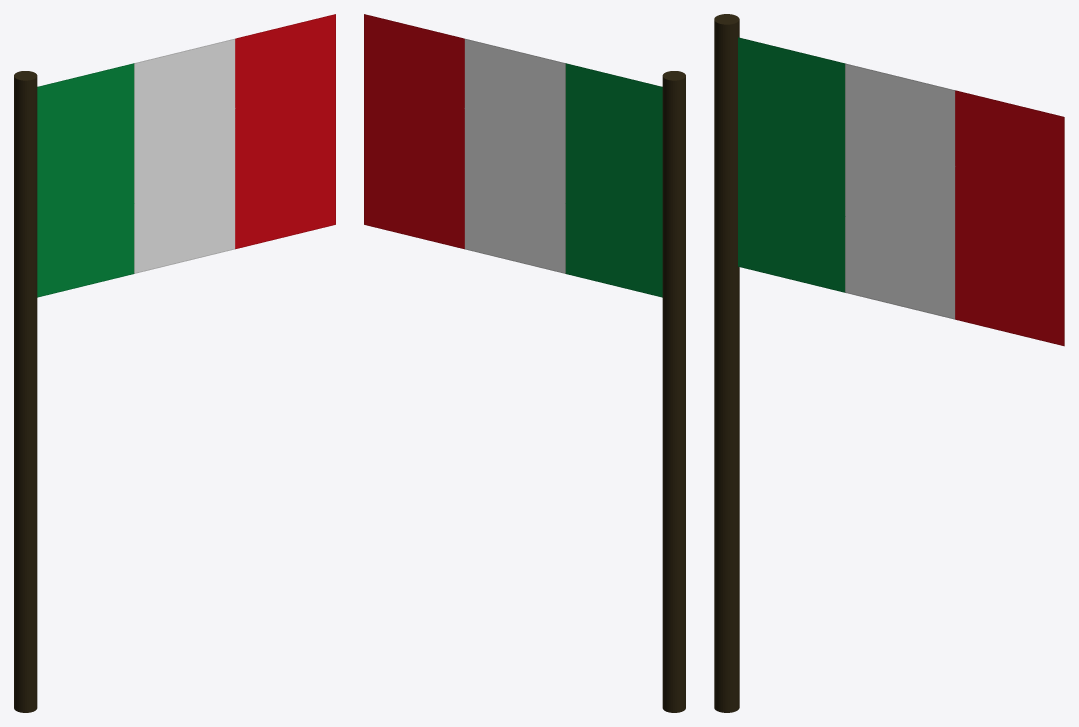
Rendered from Italy.glb.
3 renders of one model, left to right at view 1: azimuth 30°, elevation 25°; view 2: azimuth 150°, elevation 25°; view 3: azimuth 330°, elevation 25°, orthographic. The views are drawn at different scales.
Parts seen in each view (by area): view 1: Plane, Cylinder; view 2: Plane, Cylinder; view 3: Plane, Cylinder.
Boxes of the visible parts, x1,y1,x2,y2 form: Plane: [37, 14, 335, 297]; Cylinder: [14, 71, 37, 712]; Plane: [364, 14, 662, 297]; Cylinder: [662, 71, 685, 712]; Plane: [738, 37, 1064, 346]; Cylinder: [714, 14, 739, 712].
Bounding box in the file's own units: 3.18 × 6 × 0.2.
Materials: 2 (1 with a texture image).
